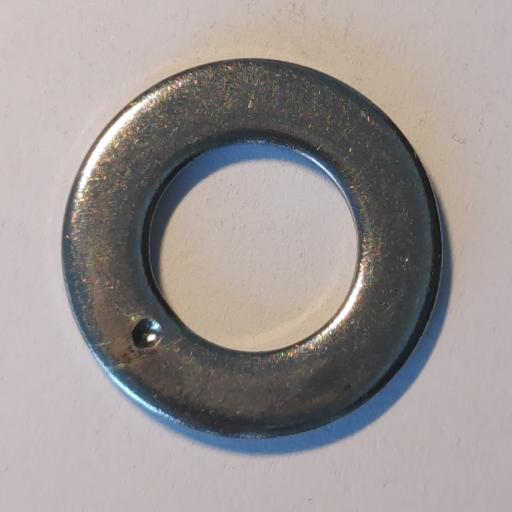circular_cavity: (132, 318, 163, 348)
